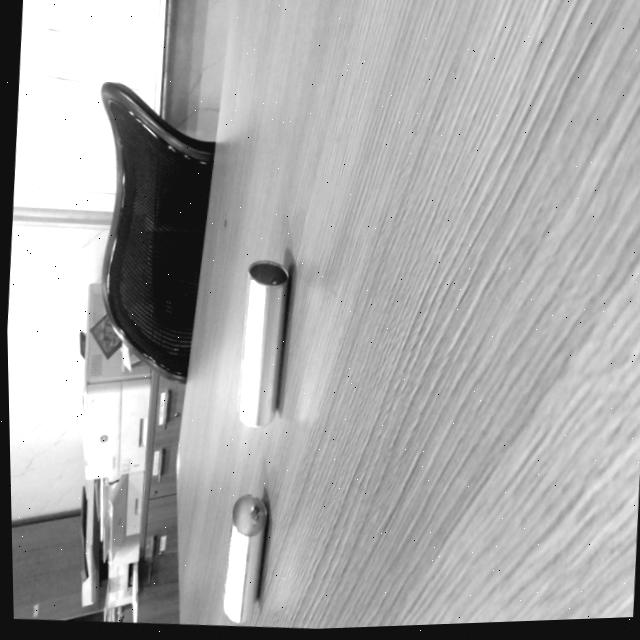Co_Lon: (233, 258, 290, 429)
Co_Nho: (219, 493, 269, 624)
